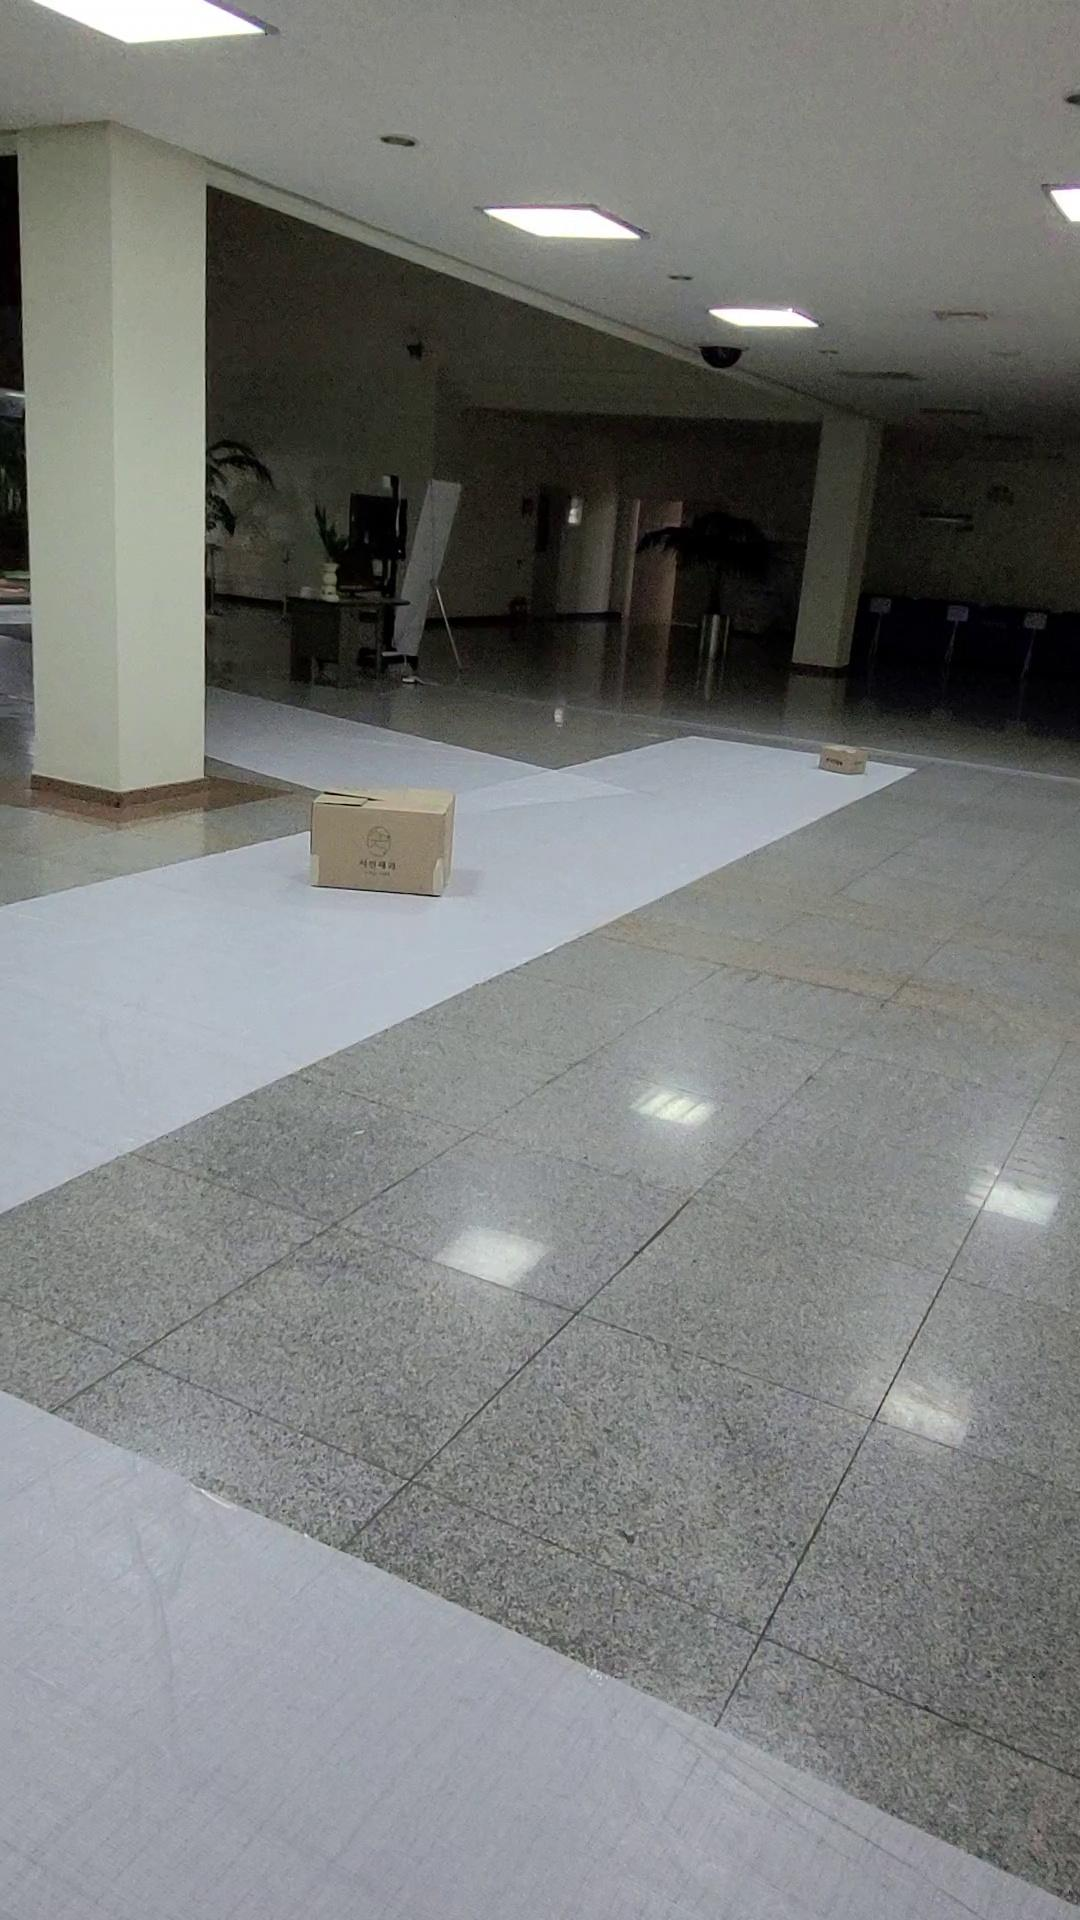Box: (256, 753, 502, 940), (791, 698, 895, 808)
